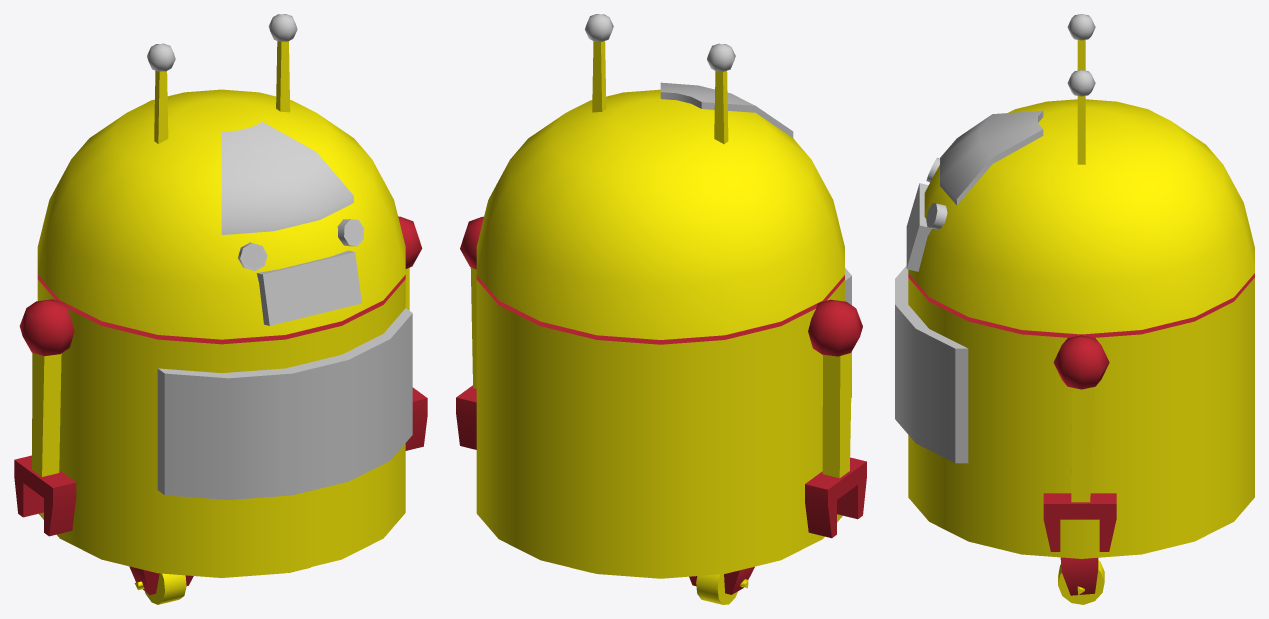
The model's file is robot_01_mesh.FBX.
3 renders of one model, left to right at view 1: azimuth 30°, elevation 25°; view 2: azimuth 150°, elevation 25°; view 3: azimuth 270°, elevation 25°, orthographic. The views are drawn at different scales.
Visible parts, largest first — view 1: robot_01_body_mesh001, robot_01_head_mesh001, robot_01_right_arm_mesh005, robot_01_left_arm_mesh001, robot_01_whell02_mesh001; view 2: robot_01_body_mesh001, robot_01_head_mesh001, robot_01_right_arm_mesh005, robot_01_left_arm_mesh001, robot_01_whell02_mesh001; view 3: robot_01_body_mesh001, robot_01_head_mesh001, robot_01_left_arm_mesh001, robot_01_whell01_mesh004.
Part boxes in pixels (bbox=[...]): robot_01_body_mesh001: bbox=[37, 275, 412, 595]; robot_01_head_mesh001: bbox=[37, 14, 405, 339]; robot_01_right_arm_mesh005: bbox=[14, 299, 76, 536]; robot_01_left_arm_mesh001: bbox=[398, 216, 427, 450]; robot_01_whell02_mesh001: bbox=[144, 573, 186, 604]; robot_01_body_mesh001: bbox=[476, 268, 851, 594]; robot_01_head_mesh001: bbox=[476, 14, 844, 339]; robot_01_right_arm_mesh005: bbox=[805, 299, 866, 538]; robot_01_left_arm_mesh001: bbox=[456, 216, 483, 449]; robot_01_whell02_mesh001: bbox=[696, 574, 737, 604]; robot_01_body_mesh001: bbox=[895, 266, 1254, 595]; robot_01_head_mesh001: bbox=[906, 14, 1254, 334]; robot_01_left_arm_mesh001: bbox=[1043, 335, 1116, 551]; robot_01_whell01_mesh004: bbox=[1058, 560, 1104, 604].
Size of the model in its own units: 122 by 163 by 101.
